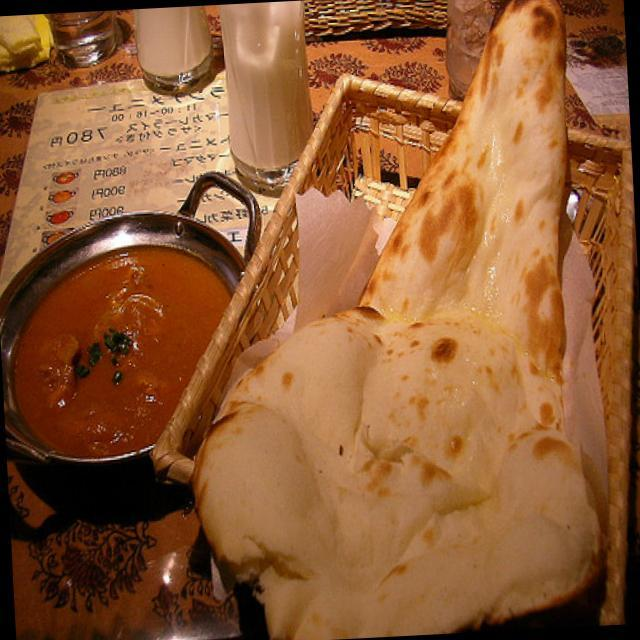Beef Curry: (24, 256, 190, 440)
